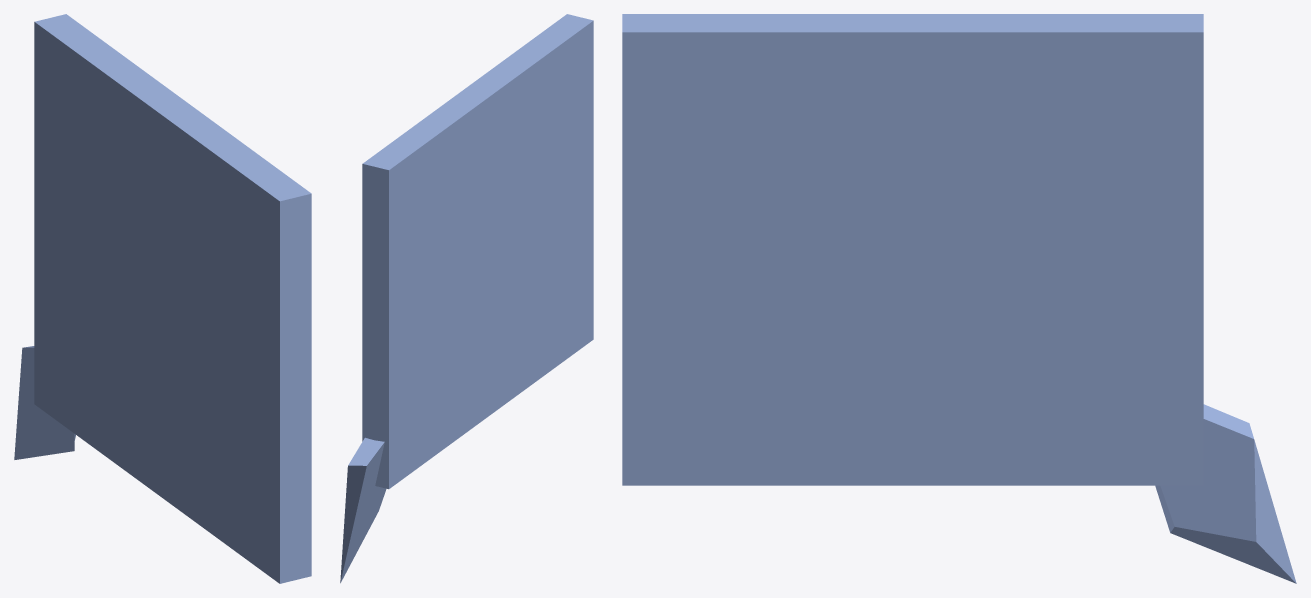
The model's file is dialog.fbx.
3 views of the same model, side by side, from view 1: azimuth 30°, elevation 25°; view 2: azimuth 150°, elevation 25°; view 3: azimuth 270°, elevation 25° (orthographic). The views are drawn at different scales.
Visible parts, largest first — view 1: Cube; view 2: Cube; view 3: Cube.
Boxes of the visible parts, <box> form: Cube: <box>14,14,311,583</box>; Cube: <box>340,14,593,583</box>; Cube: <box>622,14,1296,583</box>.
Size of the model in its own units: 45.51 by 643 by 704.
